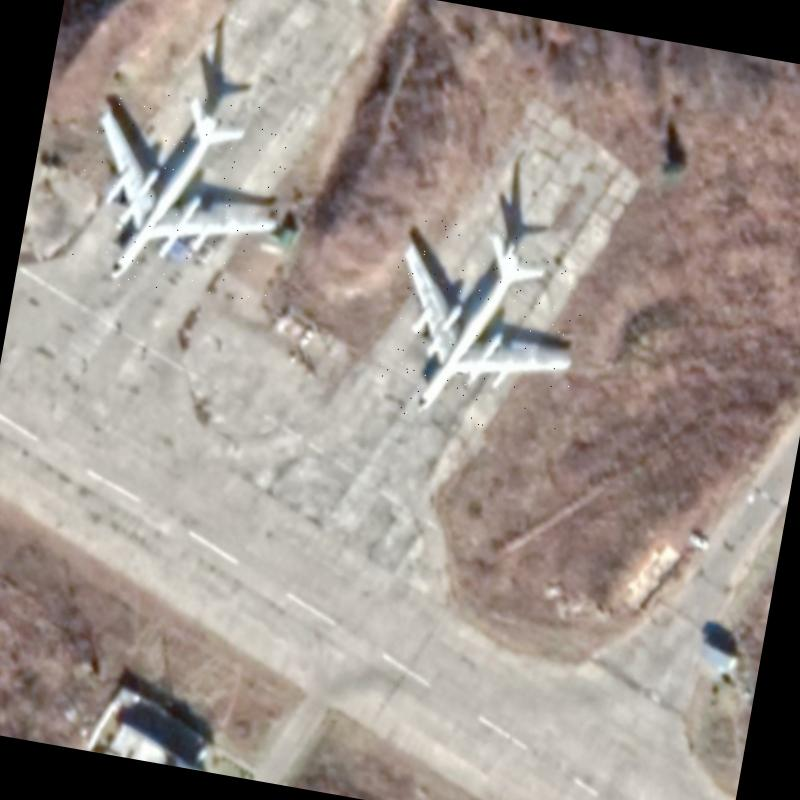A17: (64, 77, 300, 311), (371, 212, 596, 442)
